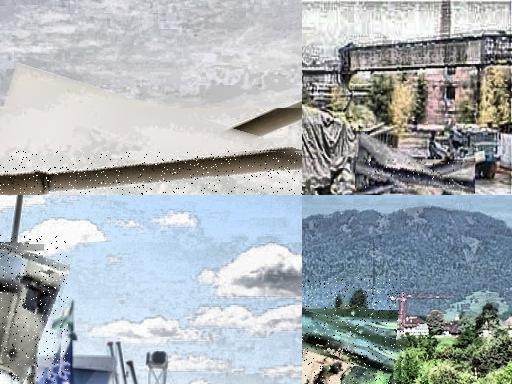tanks: (1, 153, 303, 196), (1, 245, 69, 384), (303, 309, 405, 384), (356, 161, 469, 189), (307, 181, 310, 195)
